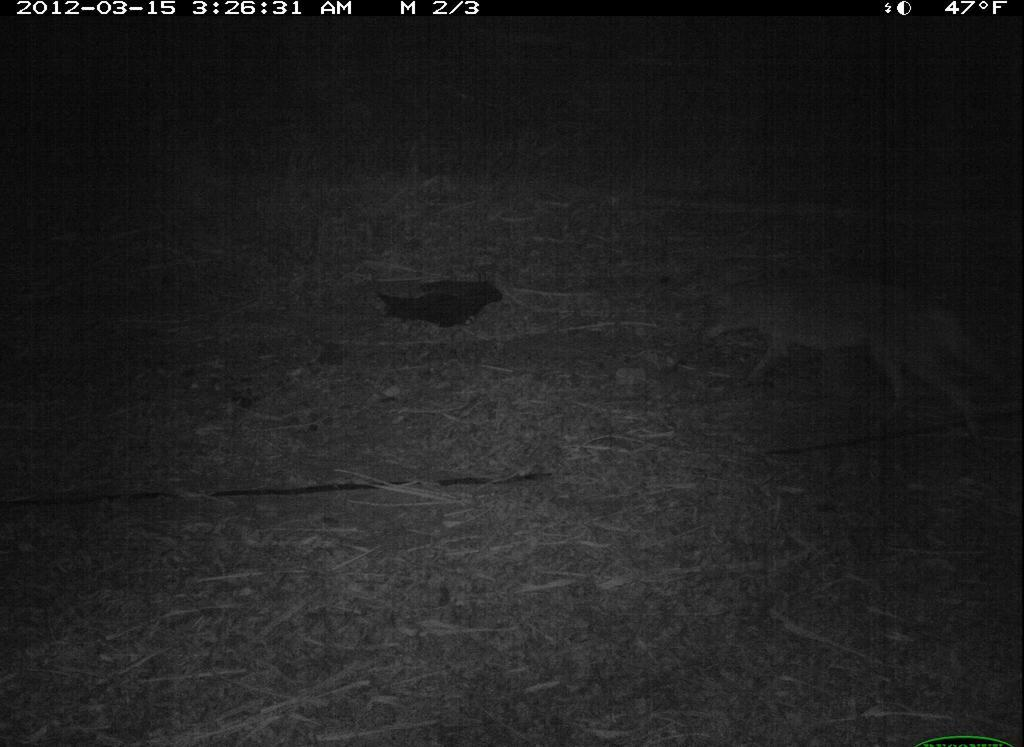coyote: (689, 260, 1001, 446)
